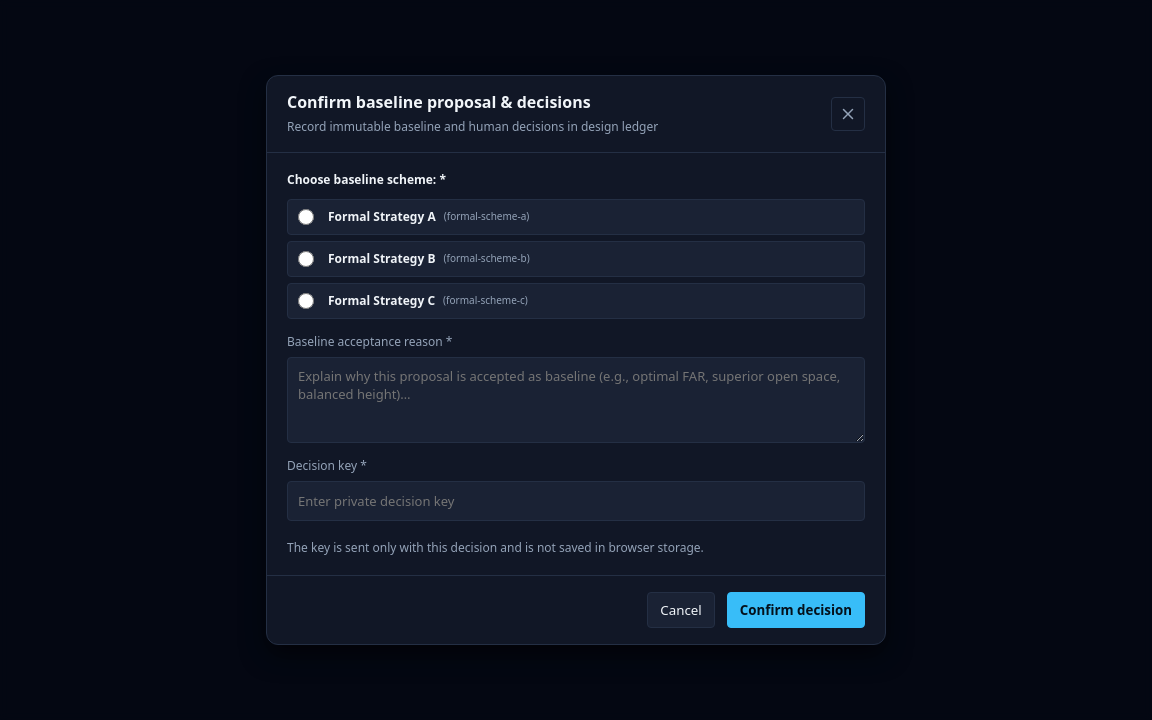
Test: ScenarioComparisonDialog › keeps submit button enabled on incomplete form, shows inline errors and summary on submit, and sends no request
Submit empty form
What coordinates should you click on to do the following:
click the button with test id "confirm-baseline-btn"
I would click on:
 (796, 610)
Its box is [727, 592, 865, 628].
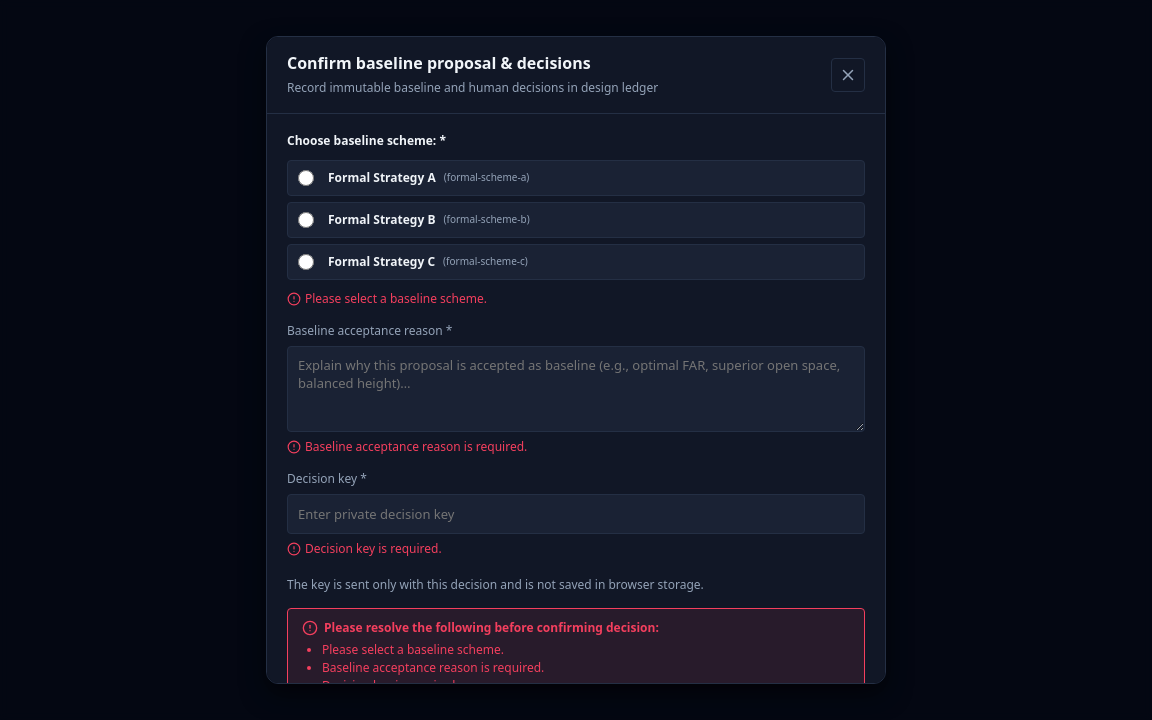
Result: the message with test id "error-baseline" reads "Please select a baseline scheme." at [305, 290, 487, 307]
Result: the message with test id "error-acceptance-reason" reads "Baseline acceptance reason is required." at [305, 438, 527, 455]
Result: the message with test id "error-decision-key" reads "Decision key is required." at [305, 540, 442, 557]
